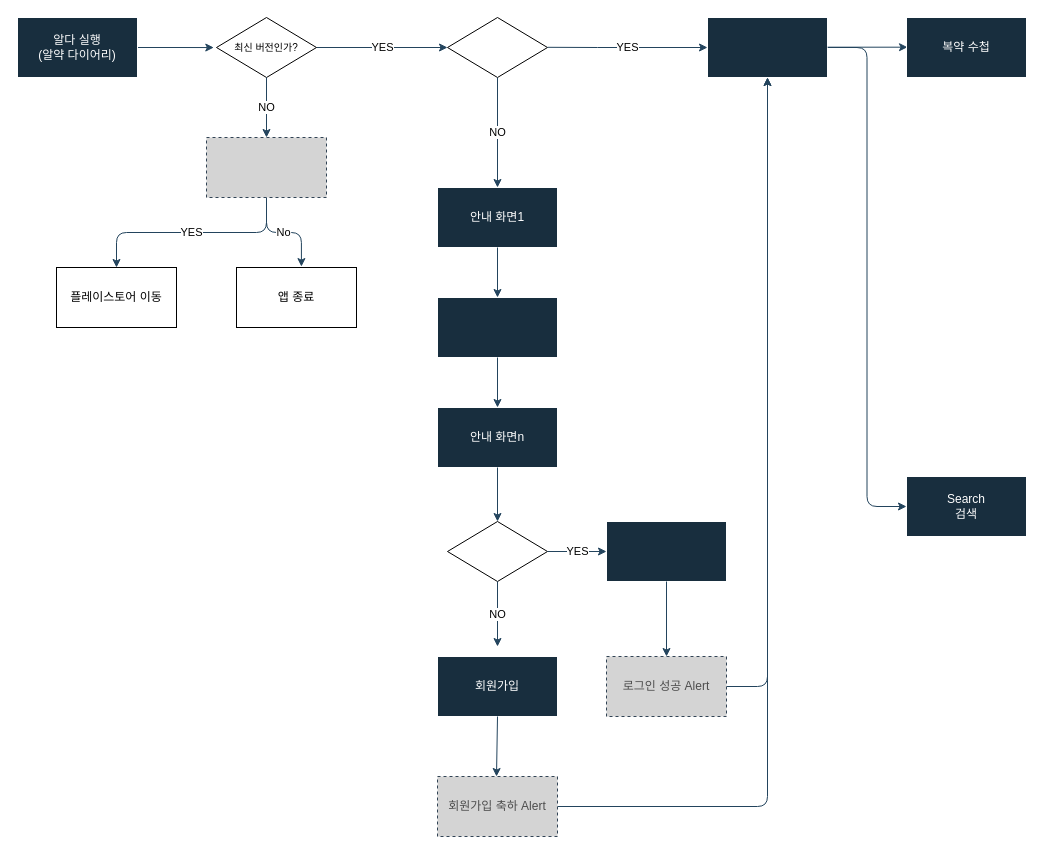
Some shapes in this 1044 by 854 pixel diagram are drawn without their labels. Each missing label, with the centre of its shape:
"로그인" belongs at [666,551].
"로그인 정보가 있는가?" belongs at [497,47].
"메인 화면" belongs at [767,47].
"안내 화면2" belongs at [497,327].
"업데이트 Alert" belongs at [266,167].
"회원가입 유무" belongs at [497,551].
